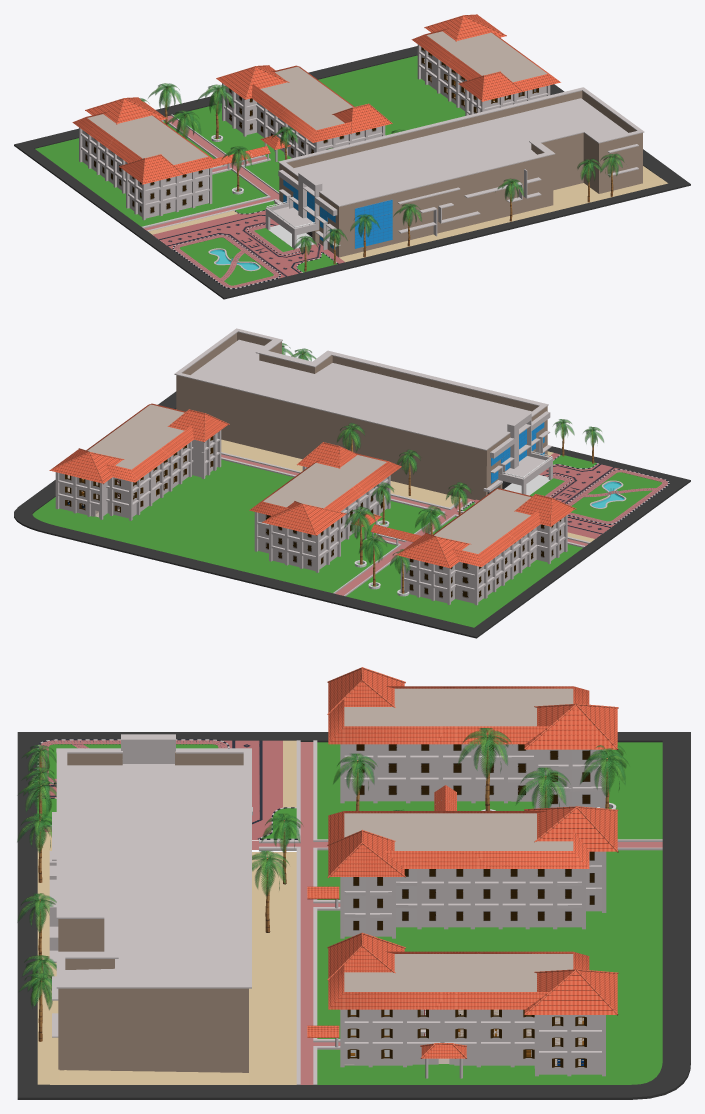
The model's file is cseblock.glb.
3 views of the same model, one above another, from view 1: azimuth 30°, elevation 25°; view 2: azimuth 150°, elevation 25°; view 3: azimuth 270°, elevation 25° (orthographic). The views are drawn at different scales.
Visible parts, largest first — view 1: Cube.017, Cube.013, Plane.016, road.001, MEoof1.002, CSroof1, ECroof1.001, Plane.003, Plane.007, sand, Plane.024, Cube (+15 smaller); view 2: Plane.016, Cube.013, Cube.017, road.001, MEoof1.002, CSroof1, ECroof1.001, Plane.003, Plane.024, sand, Plane.007, Cube (+16 smaller); view 3: Cube.017, Plane.016, road.001, Cube.013, CSroof1, ECroof1.001, MEoof1.002, sand, Plane.024, Plane.003, Plane.013, Cube.030 (+29 smaller).
Boxes of the visible parts, x1=… form: Cube.017: x1=278, y1=87, x2=644, y2=205; Cube.013: x1=287, y1=91, x2=642, y2=256; Plane.016: x1=35, y1=55, x2=465, y2=285; road.001: x1=14, y1=46, x2=690, y2=299; MEoof1.002: x1=216, y1=65, x2=392, y2=142; CSroof1: x1=411, y1=14, x2=560, y2=101; ECroof1.001: x1=72, y1=97, x2=221, y2=184; Plane.003: x1=79, y1=120, x2=212, y2=220; Plane.007: x1=152, y1=210, x2=344, y2=278; sand: x1=148, y1=166, x2=667, y2=262; Plane.024: x1=222, y1=83, x2=385, y2=158; Cube: x1=265, y1=171, x2=322, y2=248; Plane.016: x1=32, y1=455, x2=662, y2=627; Cube.013: x1=176, y1=332, x2=538, y2=500; Cube.017: x1=174, y1=328, x2=542, y2=450; road.001: x1=14, y1=391, x2=690, y2=638; MEoof1.002: x1=249, y1=442, x2=401, y2=535; CSroof1: x1=49, y1=403, x2=229, y2=484; ECroof1.001: x1=396, y1=488, x2=576, y2=568; Plane.003: x1=400, y1=515, x2=567, y2=605; Plane.024: x1=254, y1=466, x2=390, y2=572; sand: x1=221, y1=439, x2=594, y2=541; Plane.007: x1=474, y1=453, x2=619, y2=538; Cube: x1=498, y1=411, x2=552, y2=494; Cube.017: x1=56, y1=748, x2=251, y2=988; Plane.016: x1=37, y1=742, x2=662, y2=1084; road.001: x1=17, y1=732, x2=690, y2=1099; Cube.013: x1=58, y1=919, x2=248, y2=1072; CSroof1: x1=327, y1=932, x2=618, y2=1015; ECroof1.001: x1=327, y1=667, x2=618, y2=749; MEoof1.002: x1=327, y1=806, x2=618, y2=877; sand: x1=37, y1=740, x2=296, y2=1084; Plane.024: x1=340, y1=851, x2=606, y2=938; Plane.003: x1=340, y1=744, x2=605, y2=808; Plane.013: x1=252, y1=742, x2=662, y2=1084; Cube.030: x1=259, y1=740, x2=340, y2=1084.
Size of what is drawn, in the model's own units: 81.38 by 10.99 by 63.71.
Materials: 13 (8 with a texture image).
